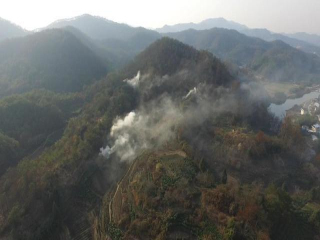smoke: (98, 70, 219, 167)
